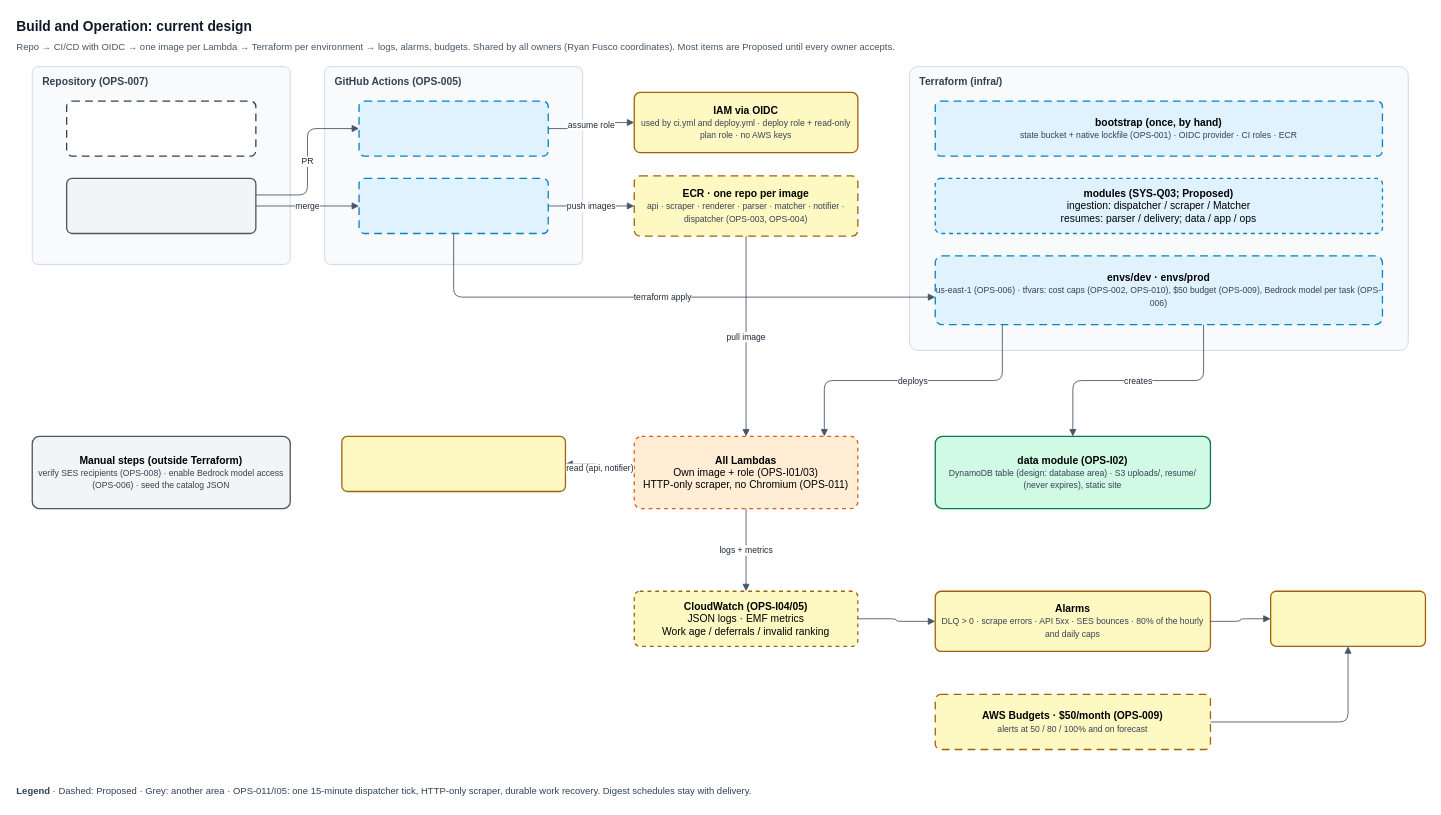
The diagram is 1441 pixels wide and 815 high, and some of its shapes have lost their labels. Each missing label, with the centre of its shape:
"ci.yml · every PR lint · unit tests · terraform fmt / validate / plan" goes at (x=453, y=128).
"deploy.yml · push to main unit tests → build → push → apply dev · prod by hand" goes at (x=453, y=205).
"Developer pull request → main" goes at (x=161, y=205).
"One repo services/ · libs/ · infra/" goes at (x=161, y=128).
"Secrets Manager CloudFront signing key · api + notifier only" goes at (x=453, y=463).
"SNS alarm emails to the team" goes at (x=1348, y=618).
